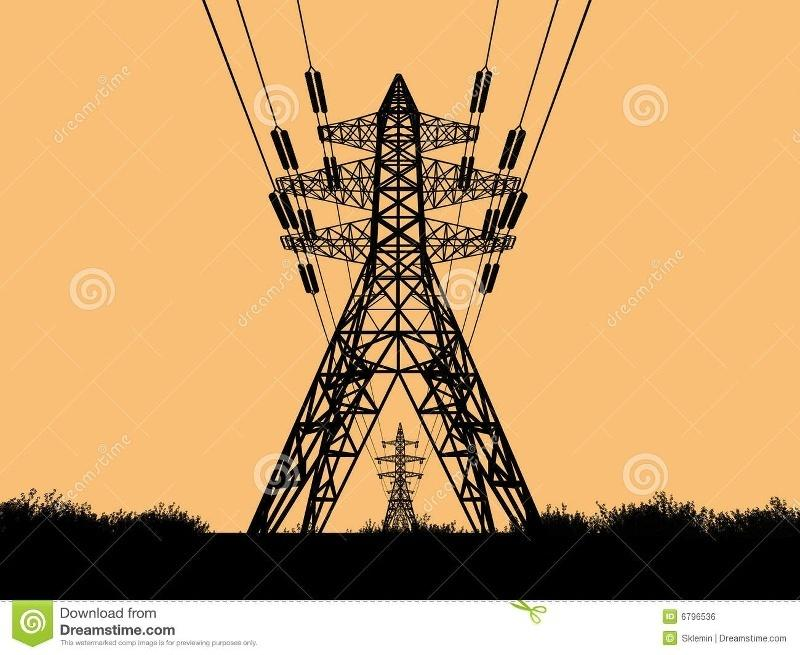power_tower: (254, 72, 555, 534)
